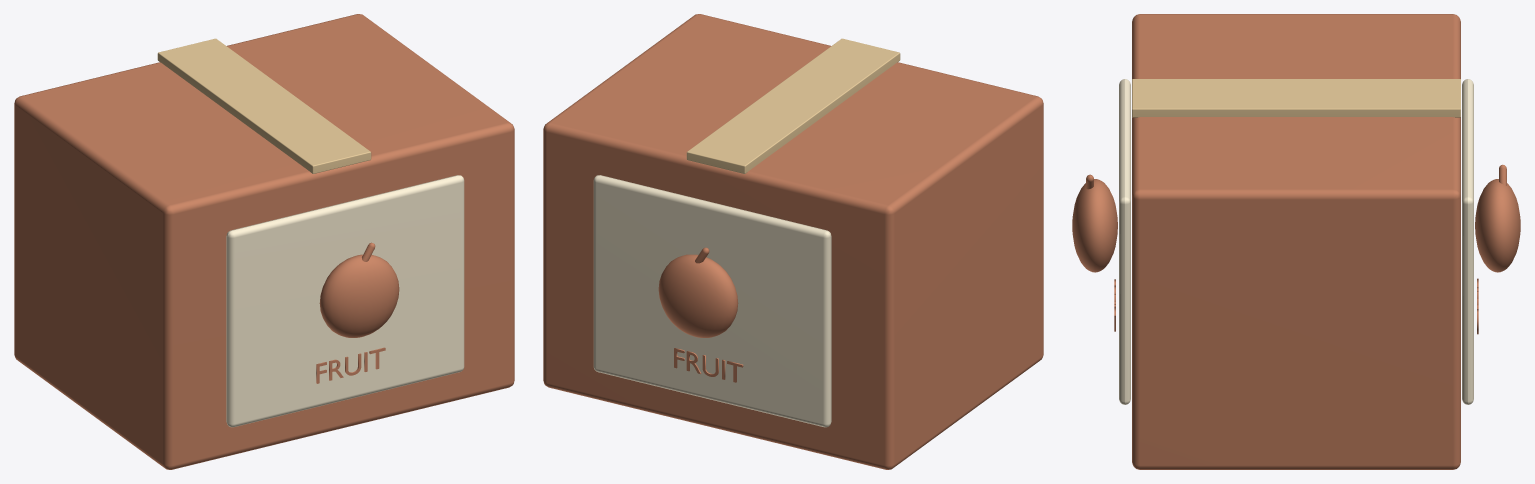
Rendered from crate-fruit.glb.
3 views of the same model, side by side, from view 1: azimuth 30°, elevation 25°; view 2: azimuth 150°, elevation 25°; view 3: azimuth 270°, elevation 25° (orthographic). The views are drawn at different scales.
Parts seen in each view (by area): view 1: carton.body, badge.plate.front, carton.tape, badge.apple.front, badge.text.front_export; view 2: carton.body, badge.plate.back, carton.tape, badge.apple.back, badge.text.back_export; view 3: carton.body, carton.tape, badge.plate.back, badge.plate.front, badge.apple.back, badge.apple.front.
Part boxes in pixels (x1,y1,x2,y2): carton.body: (14,14,514,469); badge.plate.front: (226,175,464,427); carton.tape: (157,38,371,173); badge.apple.front: (319,254,399,337); badge.text.front_export: (316,347,385,383); carton.body: (543,14,1043,469); badge.plate.back: (593,175,831,427); carton.tape: (686,38,900,173); badge.apple.back: (658,254,738,337); badge.text.back_export: (674,348,743,382); carton.body: (1132,14,1460,469); carton.tape: (1132,79,1460,117); badge.plate.back: (1462,79,1473,404); badge.plate.front: (1119,79,1130,404); badge.apple.back: (1475,179,1520,272); badge.apple.front: (1072,179,1117,272).
Bounding box in the file's own units: 0.43 × 0.319 × 0.45.
